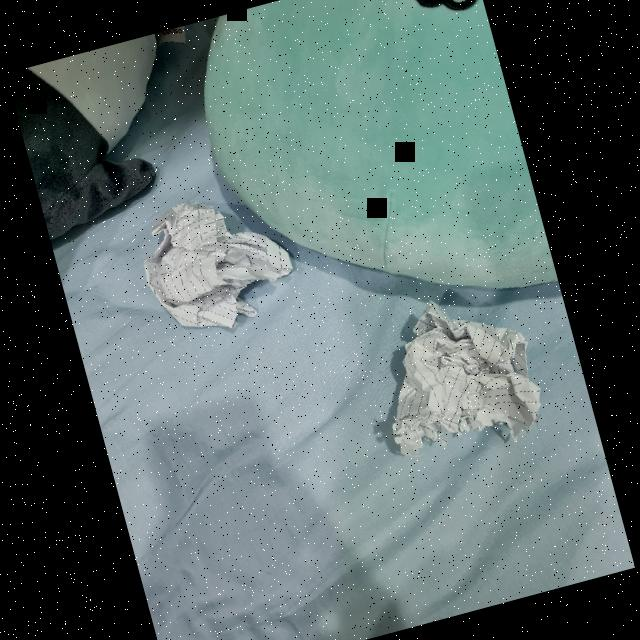scrap_paper: (356, 287, 546, 469), (126, 182, 302, 347)
